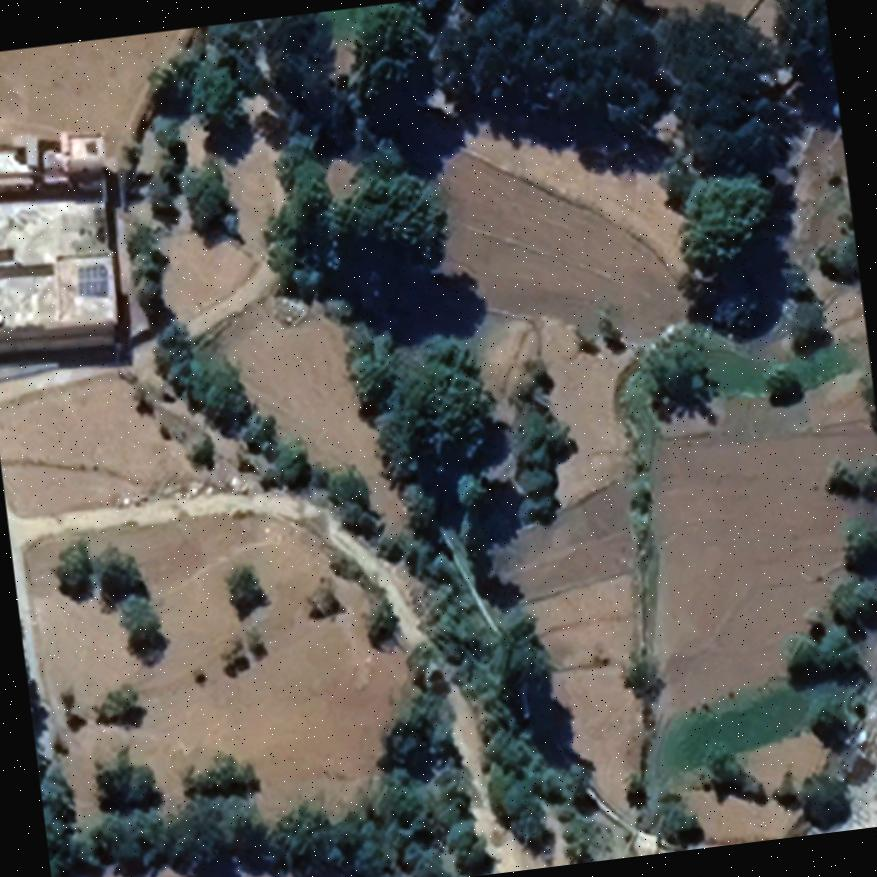Solarpanel: (74, 262, 110, 298)
